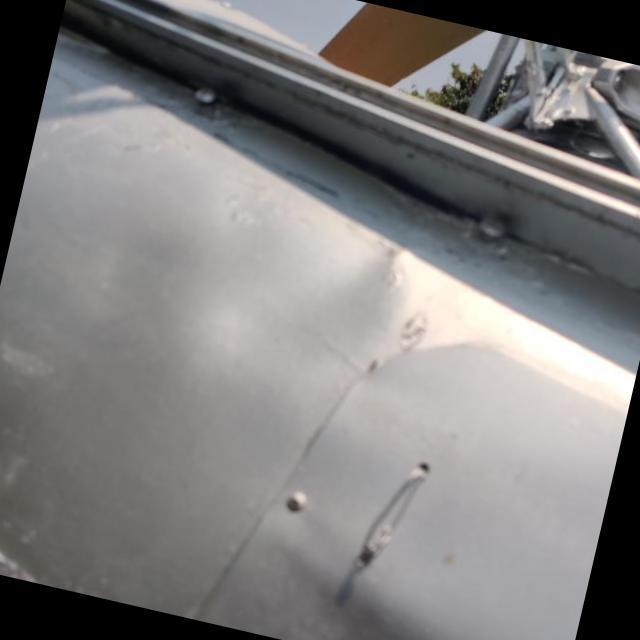Dent: (188, 176, 462, 430)
